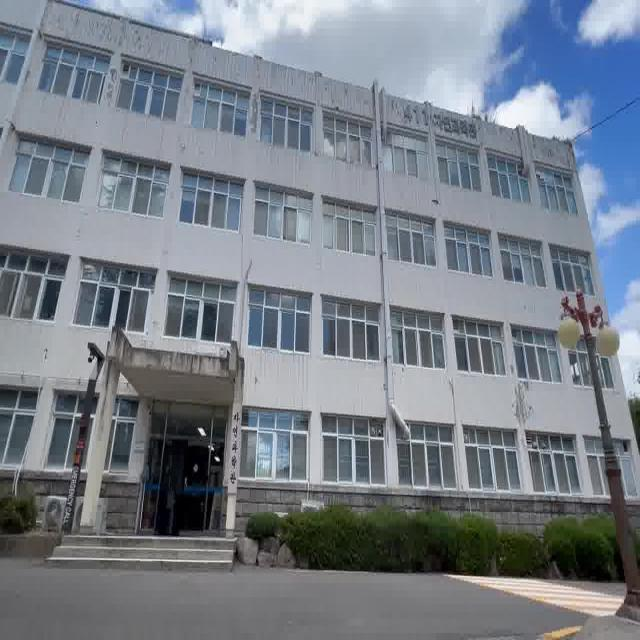building: (2, 26, 576, 492)
